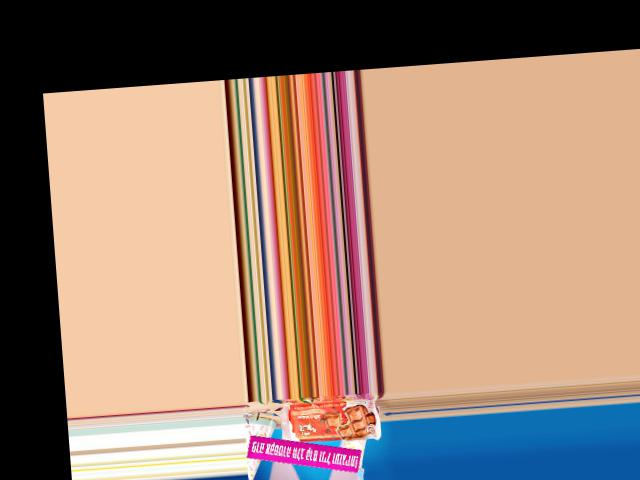chocolate: (277, 395, 384, 448)
